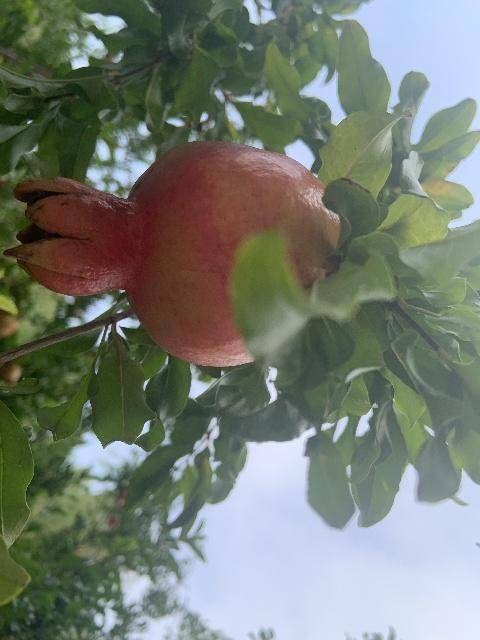ripe: (5, 140, 339, 366)
